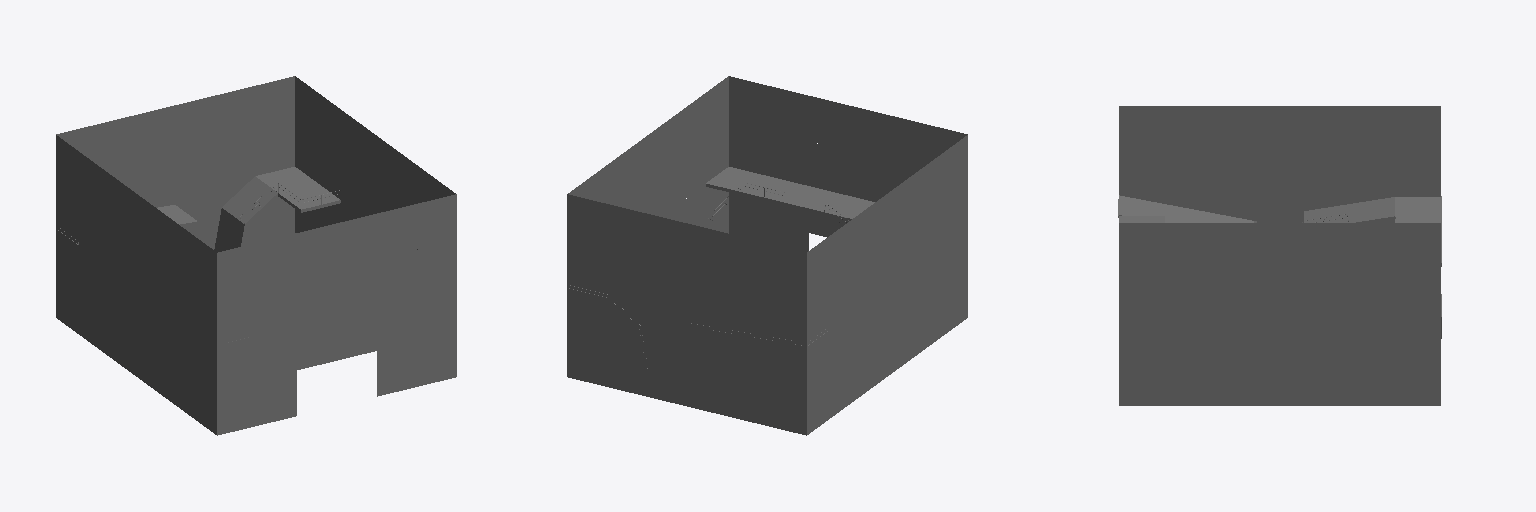
File: Factory.obj
The picture shows the model from 3 angles: view 1: azimuth 30°, elevation 25°; view 2: azimuth 150°, elevation 25°; view 3: azimuth 270°, elevation 25°; orthographic projection.
Parts seen in each view (by area): view 1: Factory1:group47 Factory1:pasted__polySurface64 Factory1:pasted_, Factory1:polySurface64 Factory1:polySurface80 Factory1:polySurfa, Factory1:polySurface2 Factory1:polySurface64 Factory1:polySurfac, Factory1:polySurface35 Factory1:polySurface64 Factory1:polySurfa, Factory1:polySurface64 Factory1:polySurface70 Factory1:polySurfa, Factory1:polySurface64 Factory1:polySurface71 Factory1:polySurfa, Factory1:polySurface64 Factory1:polySurface73 Factory1:polySurfa, Factory1:polySurface64 Factory1:polySurface74 Factory1:polySurfa, Factory1:polySurface64 Factory1:polySurface77 Factory1:polySurfa, Factory1:polySurface38 Factory1:polySurface64 Factory1:polySurfa, Factory1:polySurface41 Factory1:polySurface64 Factory1:polySurfa, Factory1:polySurface64 Factory1:polySurface69 Factory1:polySurfa (+28 smaller); view 2: Factory1:group47 Factory1:pasted__polySurface64 Factory1:pasted_, Factory1:polySurface64 Factory1:polySurface80 Factory1:polySurfa, Factory1:polySurface64 Factory1:polySurface78 Factory1:polySurfa, Factory1:polySurface32 Factory1:polySurface64 Factory1:polySurfa, Factory1:polySurface34 Factory1:polySurface64 Factory1:polySurfa, Factory1:polySurface35 Factory1:polySurface64 Factory1:polySurfa, Factory1:polySurface64 Factory1:polySurface72 Factory1:polySurfa, Factory1:polySurface30 Factory1:polySurface64 Factory1:polySurfa, Factory1:polySurface31 Factory1:polySurface64 Factory1:polySurfa, Factory1:polySurface38 Factory1:polySurface64 Factory1:polySurfa, Factory1:polySurface41 Factory1:polySurface64 Factory1:polySurfa, Factory1:polySurface43 Factory1:polySurface64 Factory1:polySurfa (+28 smaller); view 3: Factory1:group47 Factory1:pasted__polySurface64 Factory1:pasted_, Factory1:polySurface64 Factory1:polySurface80 Factory1:polySurfa, Factory1:polySurface9 Factory1:polySurface64 Factory1:polySurfac, Factory1:polySurface12 Factory1:polySurface64 Factory1:polySurfa, Factory1:polySurface18 Factory1:polySurface64 Factory1:polySurfa, Factory1:polySurface19 Factory1:polySurface64 Factory1:polySurfa, Factory1:polySurface20 Factory1:polySurface64 Factory1:polySurfa, Factory1:polySurface21 Factory1:polySurface64 Factory1:polySurfa, Factory1:polySurface22 Factory1:polySurface64 Factory1:polySurfa, Factory1:polySurface23 Factory1:polySurface64 Factory1:polySurfa, Factory1:polySurface24 Factory1:polySurface64 Factory1:polySurfa, Factory1:polySurface26 Factory1:polySurface64 Factory1:polySurfa (+20 smaller).
Boxes of the visible parts, <box> form: Factory1:group47 Factory1:pasted__polySurface64 Factory1:pasted_: <box>56,122,456,343</box>; Factory1:polySurface64 Factory1:polySurface80 Factory1:polySurfa: <box>79,152,416,435</box>; Factory1:polySurface2 Factory1:polySurface64 Factory1:polySurfac: <box>256,167,340,212</box>; Factory1:polySurface35 Factory1:polySurface64 Factory1:polySurfa: <box>136,105,175,160</box>; Factory1:polySurface64 Factory1:polySurface70 Factory1:polySurfa: <box>337,214,376,268</box>; Factory1:polySurface64 Factory1:polySurface71 Factory1:polySurfa: <box>297,315,336,369</box>; Factory1:polySurface64 Factory1:polySurface73 Factory1:polySurfa: <box>417,286,456,340</box>; Factory1:polySurface64 Factory1:polySurface74 Factory1:polySurfa: <box>417,332,456,386</box>; Factory1:polySurface64 Factory1:polySurface77 Factory1:polySurfa: <box>377,341,416,396</box>; Factory1:polySurface38 Factory1:polySurface64 Factory1:polySurfa: <box>255,76,294,131</box>; Factory1:polySurface41 Factory1:polySurface64 Factory1:polySurfa: <box>215,86,254,140</box>; Factory1:polySurface64 Factory1:polySurface69 Factory1:polySurfa: <box>337,305,376,360</box>; Factory1:group47 Factory1:pasted__polySurface64 Factory1:pasted_: <box>567,122,967,343</box>; Factory1:polySurface64 Factory1:polySurface80 Factory1:polySurfa: <box>567,86,967,417</box>; Factory1:polySurface64 Factory1:polySurface78 Factory1:polySurfa: <box>706,167,874,220</box>; Factory1:polySurface32 Factory1:polySurface64 Factory1:polySurfa: <box>647,214,686,268</box>; Factory1:polySurface34 Factory1:polySurface64 Factory1:polySurfa: <box>687,361,726,415</box>; Factory1:polySurface35 Factory1:polySurface64 Factory1:polySurfa: <box>687,223,726,278</box>; Factory1:polySurface64 Factory1:polySurface72 Factory1:polySurfa: <box>848,105,887,160</box>; Factory1:polySurface30 Factory1:polySurface64 Factory1:polySurfa: <box>647,305,686,360</box>; Factory1:polySurface31 Factory1:polySurface64 Factory1:polySurfa: <box>647,351,686,405</box>; Factory1:polySurface38 Factory1:polySurface64 Factory1:polySurfa: <box>567,194,606,249</box>; Factory1:polySurface41 Factory1:polySurface64 Factory1:polySurfa: <box>607,204,646,258</box>; Factory1:polySurface43 Factory1:polySurface64 Factory1:polySurfa: <box>727,371,766,425</box>; Factory1:group47 Factory1:pasted__polySurface64 Factory1:pasted_: <box>1119,152,1440,314</box>; Factory1:polySurface64 Factory1:polySurface80 Factory1:polySurfa: <box>1136,106,1394,405</box>; Factory1:polySurface9 Factory1:polySurface64 Factory1:polySurfac: <box>1395,223,1440,268</box>; Factory1:polySurface12 Factory1:polySurface64 Factory1:polySurfa: <box>1395,360,1440,405</box>; Factory1:polySurface18 Factory1:polySurface64 Factory1:polySurfa: <box>1211,223,1256,268</box>; Factory1:polySurface19 Factory1:polySurface64 Factory1:polySurfa: <box>1349,223,1394,268</box>; Factory1:polySurface20 Factory1:polySurface64 Factory1:polySurfa: <box>1303,223,1348,268</box>; Factory1:polySurface21 Factory1:polySurface64 Factory1:polySurfa: <box>1165,223,1210,268</box>; Factory1:polySurface22 Factory1:polySurface64 Factory1:polySurfa: <box>1119,223,1164,268</box>; Factory1:polySurface23 Factory1:polySurface64 Factory1:polySurfa: <box>1257,223,1302,268</box>; Factory1:polySurface24 Factory1:polySurface64 Factory1:polySurfa: <box>1211,360,1256,405</box>; Factory1:polySurface26 Factory1:polySurface64 Factory1:polySurfa: <box>1303,360,1348,405</box>.
Bounding box in the file's own units: 73.6 × 53.71 × 86.